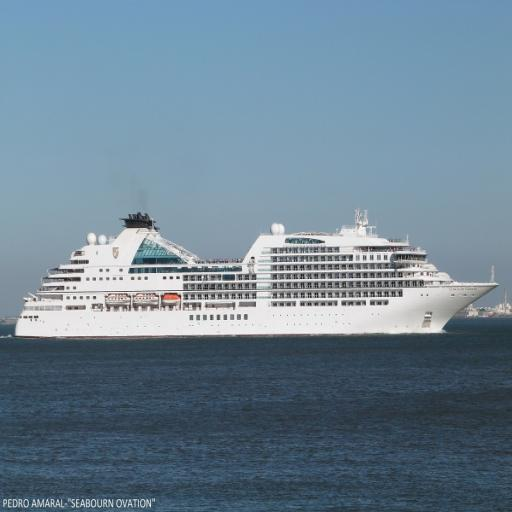cruises: (14, 193, 506, 341)
